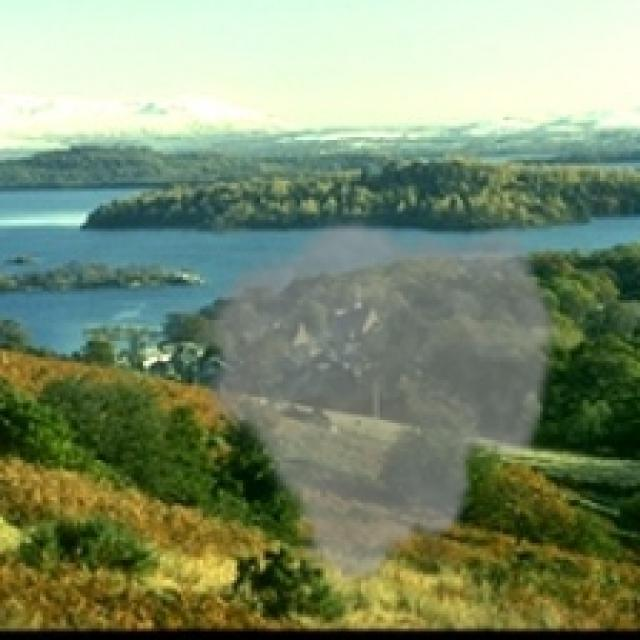Smoke: (194, 215, 563, 594)
